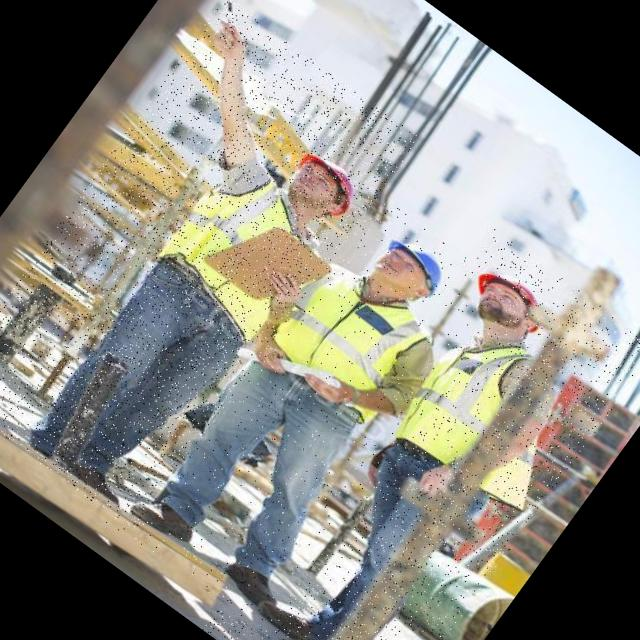hard_hat: (467, 256, 556, 336), (284, 144, 366, 220), (375, 228, 453, 300)
safety_vest: (386, 312, 600, 524), (145, 148, 337, 346), (254, 250, 436, 429)
vehicle: (0, 0, 419, 531), (103, 176, 514, 638), (201, 228, 640, 640)
work_boots: (127, 487, 200, 552), (217, 552, 287, 616), (253, 585, 323, 640), (68, 454, 131, 508), (270, 620, 326, 640)
